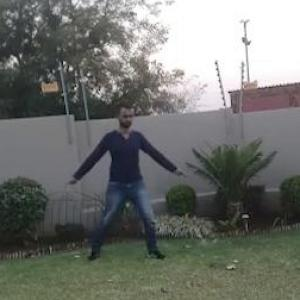land: (63, 106, 179, 258)
